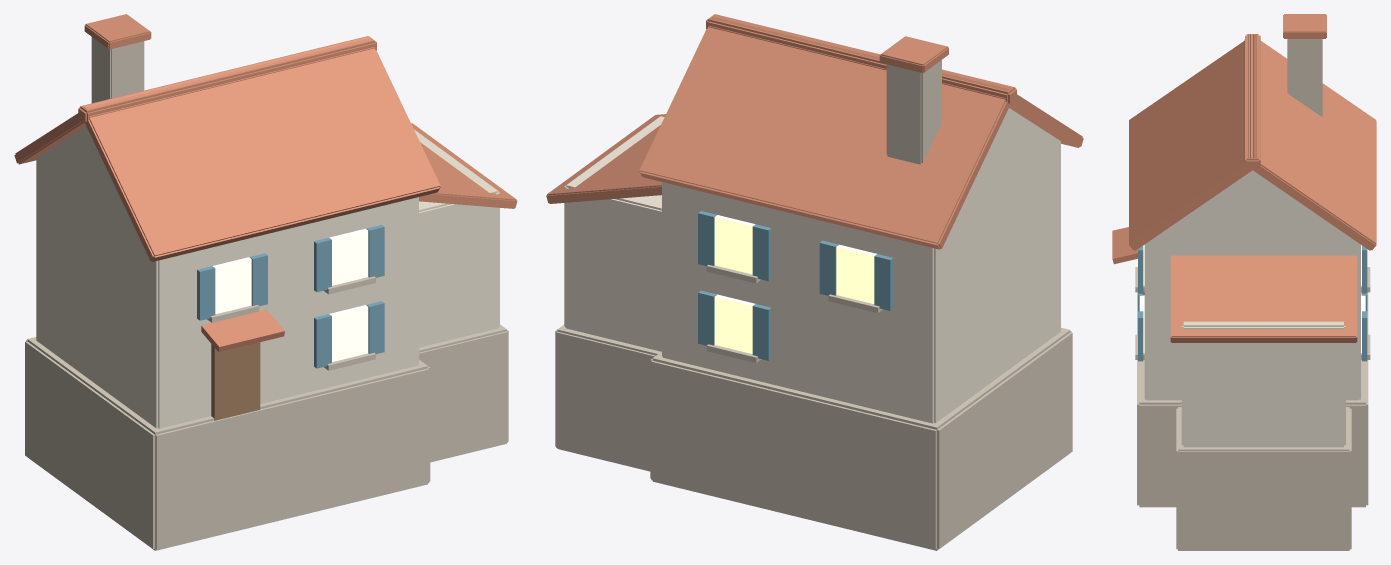
Rendered from cottage.glb.
3 renders of one model, left to right at view 1: azimuth 30°, elevation 25°; view 2: azimuth 150°, elevation 25°; view 3: azimuth 270°, elevation 25°, orthographic. The views are drawn at different scales.
Parts seen in each view (by area): view 1: CottageMesh; view 2: CottageMesh; view 3: CottageMesh.
Boxes of the visible parts, left/top/right/bottom form: CottageMesh: left=14, top=14, right=517, bottom=550; CottageMesh: left=546, top=14, right=1083, bottom=550; CottageMesh: left=1112, top=14, right=1376, bottom=550.
Bounding box in the file's own units: 10.69 × 11.56 × 7.08.
